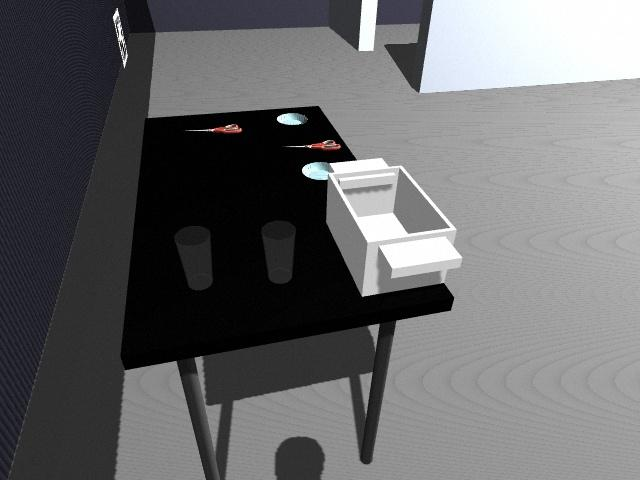cup: (174, 225, 213, 289), (261, 221, 296, 282)
plate: (301, 161, 333, 181), (276, 112, 309, 127)
scissors: (282, 139, 342, 151), (186, 124, 243, 134)
